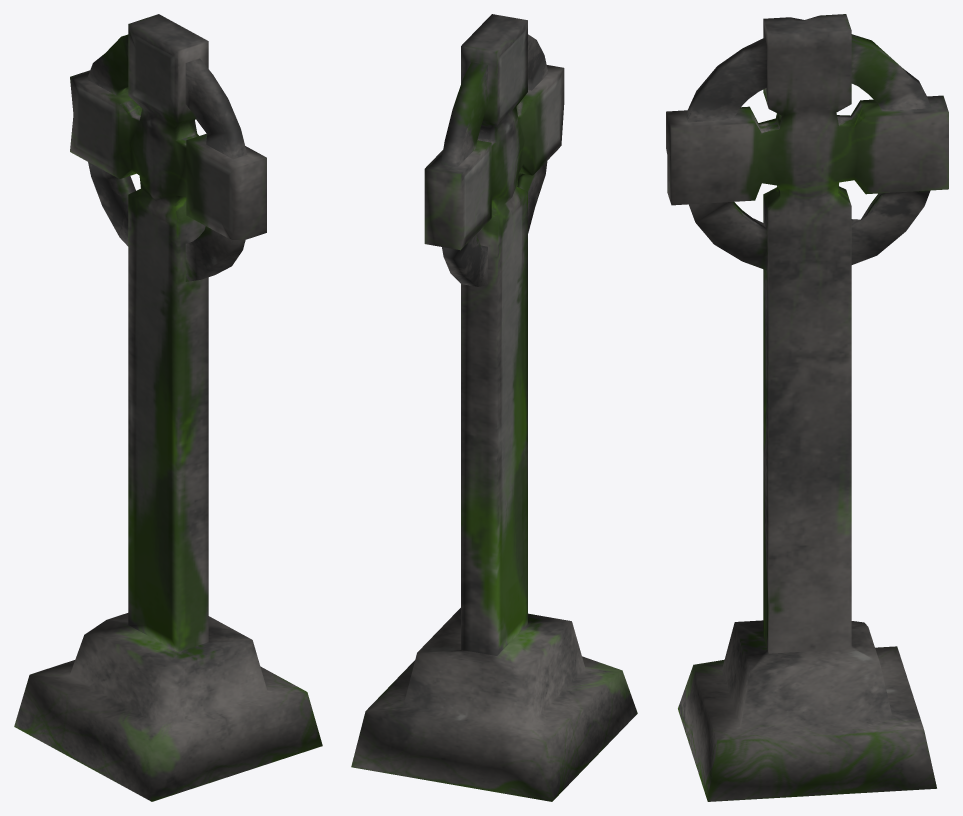
File: tumba_cruz.fbx
3 views of the same model, side by side, from view 1: azimuth 30°, elevation 25°; view 2: azimuth 150°, elevation 25°; view 3: azimuth 270°, elevation 25° (orthographic). The views are drawn at different scales.
Parts seen in each view (by area): view 1: tumba2:pCube1; view 2: tumba2:pCube1; view 3: tumba2:pCube1.
Boxes of the visible parts, x1=… form: tumba2:pCube1: x1=14, y1=14, x2=322, y2=801; tumba2:pCube1: x1=351, y1=14, x2=637, y2=801; tumba2:pCube1: x1=666, y1=14, x2=948, y2=801.
Bounding box in the file's own units: 1.72 × 5.45 × 1.93.
